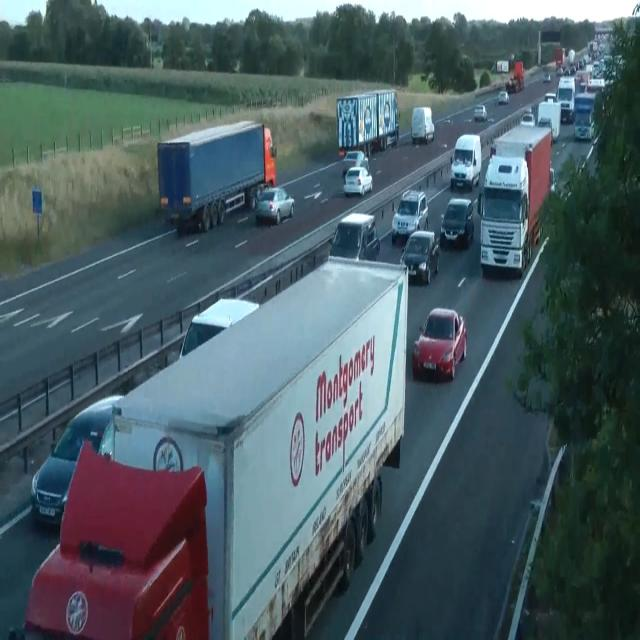bus: (30, 394, 124, 529), (179, 297, 260, 360), (412, 307, 467, 381), (328, 212, 380, 262), (399, 230, 439, 284), (440, 196, 474, 248), (254, 186, 294, 225), (343, 166, 373, 196), (341, 149, 369, 179), (586, 76, 605, 92), (519, 111, 535, 127), (473, 104, 487, 122), (497, 91, 509, 105), (550, 167, 556, 194), (544, 92, 556, 102), (543, 73, 551, 83), (443, 116, 451, 124)
car: (23, 254, 409, 638)
jeep: (23, 441, 210, 638), (391, 188, 429, 245), (449, 132, 481, 190), (572, 90, 596, 140)
minibus: (156, 119, 276, 234), (477, 123, 555, 278), (336, 89, 400, 158), (537, 99, 561, 142), (556, 76, 576, 122), (411, 106, 435, 144), (505, 61, 525, 92), (496, 59, 509, 73)
